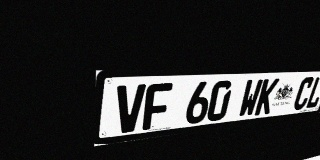0: (206, 80, 234, 122)
6: (184, 81, 213, 125)
C: (291, 77, 315, 111)
F: (142, 83, 173, 130)
K: (254, 78, 280, 116)
L: (304, 76, 320, 109)
V: (115, 84, 146, 134)
W: (237, 79, 264, 118)
